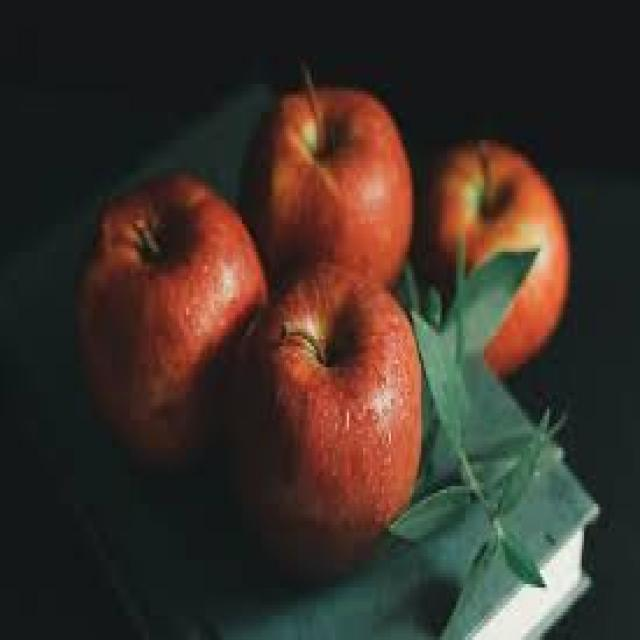organic waste: (223, 255, 419, 584), (72, 172, 265, 466), (242, 59, 414, 294), (419, 133, 568, 378), (440, 245, 535, 360), (472, 399, 564, 514), (407, 308, 468, 454), (433, 524, 496, 636), (386, 479, 468, 549), (500, 528, 544, 588)
